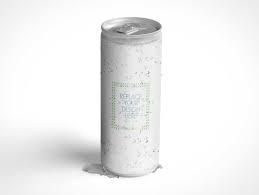Aluminum can: (98, 13, 167, 180)
